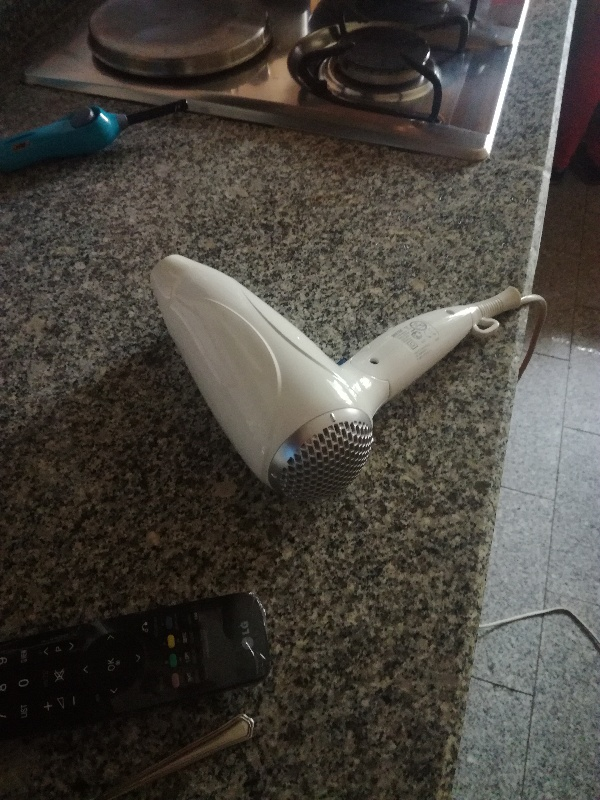hair dryer: (152, 253, 524, 504)
